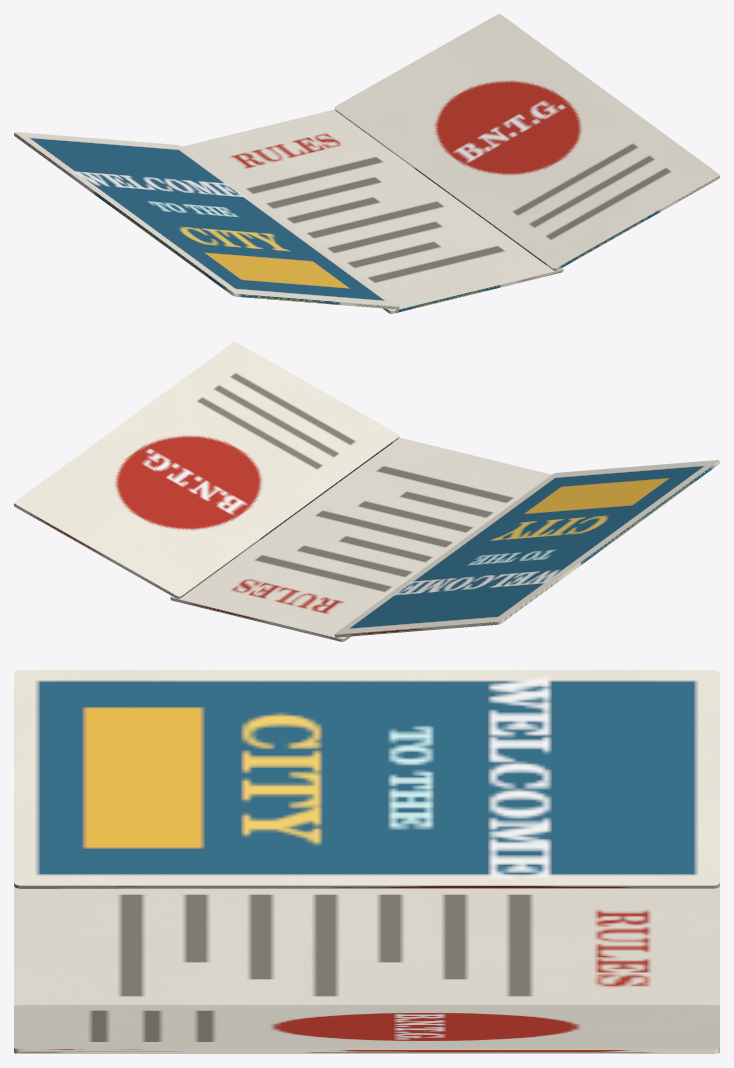
The model's file is pamphlet.obj.
The picture shows the model from 3 angles, top to bottom: view 1: azimuth 30°, elevation 25°; view 2: azimuth 150°, elevation 25°; view 3: azimuth 270°, elevation 25°; orthographic projection. The views are drawn at different scales.
Parts seen in each view (by area): view 1: pamphlet_0_surface; view 2: pamphlet_0_surface; view 3: pamphlet_0_surface.
Part boxes in pixels (left/top/right/bottom): pamphlet_0_surface: left=14, top=14, right=719, bottom=313; pamphlet_0_surface: left=14, top=342, right=719, bottom=641; pamphlet_0_surface: left=14, top=670, right=719, bottom=1053.
Size of the model in its own units: 0.2801 by 0.0323 by 0.22.
Materials: 1 (1 with a texture image).
